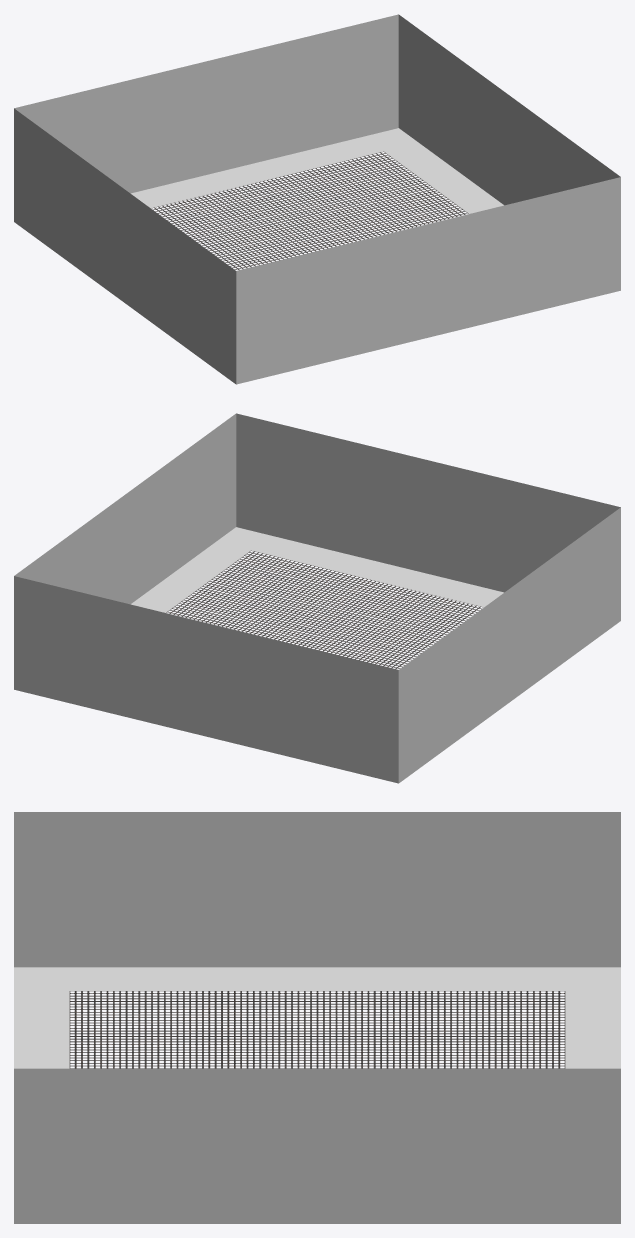
The model's file is m_ext_s_bridge.fbx.
The picture shows the model from 3 angles, top to bottom: view 1: azimuth 30°, elevation 25°; view 2: azimuth 150°, elevation 25°; view 3: azimuth 270°, elevation 25°; orthographic projection. The views are drawn at different scales.
Visible parts, largest first — view 1: m_walls, m_gratedFlooring, m_wallPieceN, m_wallPieceS, m_wallPieceE, m_wallPieceW; view 2: m_walls, m_gratedFlooring, m_wallPieceS, m_wallPieceN, m_wallPieceE, m_wallPieceW; view 3: m_walls, m_gratedFlooring, m_wallPieceW, m_wallPieceE.
Part boxes in pixels (x1=…): m_walls: x1=14, y1=14, x2=620, y2=384; m_gratedFlooring: x1=151, y1=151, x2=468, y2=269; m_wallPieceN: x1=402, y1=269, x2=454, y2=343; m_wallPieceS: x1=180, y1=107, x2=232, y2=180; m_wallPieceE: x1=110, y1=230, x2=139, y2=313; m_wallPieceW: x1=495, y1=137, x2=524, y2=205; m_walls: x1=14, y1=413, x2=620, y2=783; m_gratedFlooring: x1=166, y1=550, x2=483, y2=668; m_wallPieceS: x1=180, y1=668, x2=232, y2=742; m_wallPieceN: x1=402, y1=506, x2=454, y2=579; m_wallPieceE: x1=495, y1=629, x2=524, y2=712; m_wallPieceW: x1=110, y1=536, x2=139, y2=604; m_walls: x1=14, y1=812, x2=620, y2=1223; m_gratedFlooring: x1=69, y1=991, x2=565, y2=1068; m_wallPieceW: x1=276, y1=1139, x2=358, y2=1223; m_wallPieceE: x1=276, y1=883, x2=358, y2=966.
Size of the model in its own units: 1450 by 409 by 1450.
